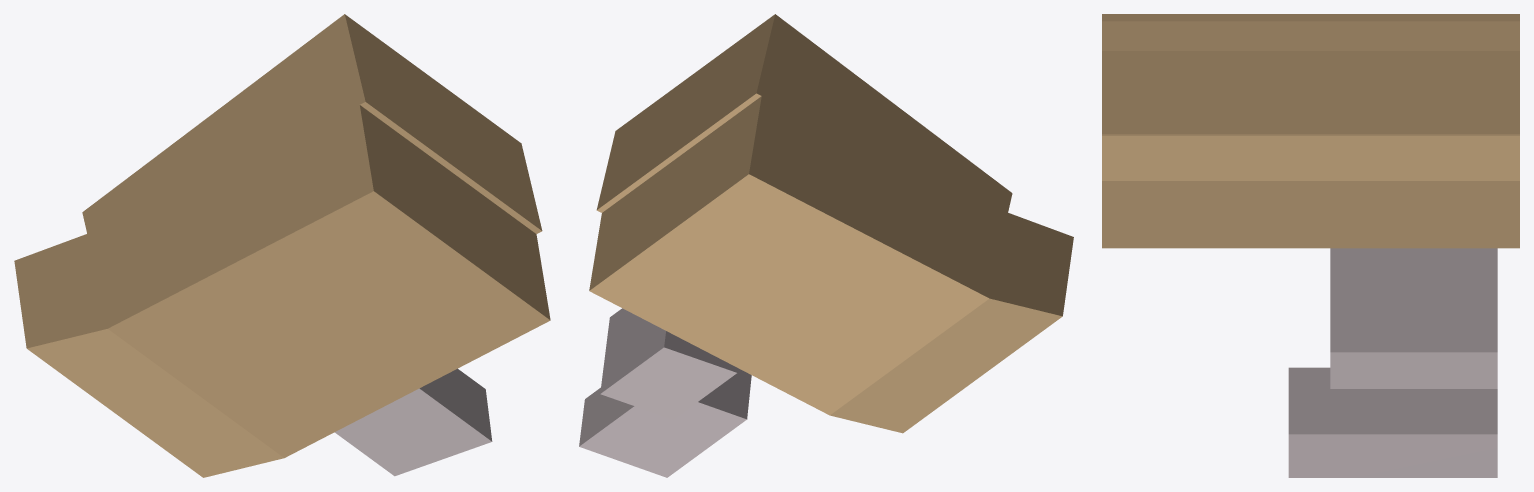
3 views of the same model, side by side, from view 1: azimuth 30°, elevation 25°; view 2: azimuth 150°, elevation 25°; view 3: azimuth 270°, elevation 25° (orthographic). The views are drawn at different scales.
Visible parts, largest first — view 1: 0_0_3_2_0_1_0_2_3; view 2: 0_0_3_2_0_1_0_2_3; view 3: 0_0_3_2_0_1_0_2_3.
Part boxes in pixels (left/top/right/bottom): 0_0_3_2_0_1_0_2_3: left=14, top=14, right=550, bottom=477; 0_0_3_2_0_1_0_2_3: left=579, top=14, right=1073, bottom=477; 0_0_3_2_0_1_0_2_3: left=1102, top=14, right=1519, bottom=477.
Size of the model in its own units: 37.24 by 35.49 by 30.
